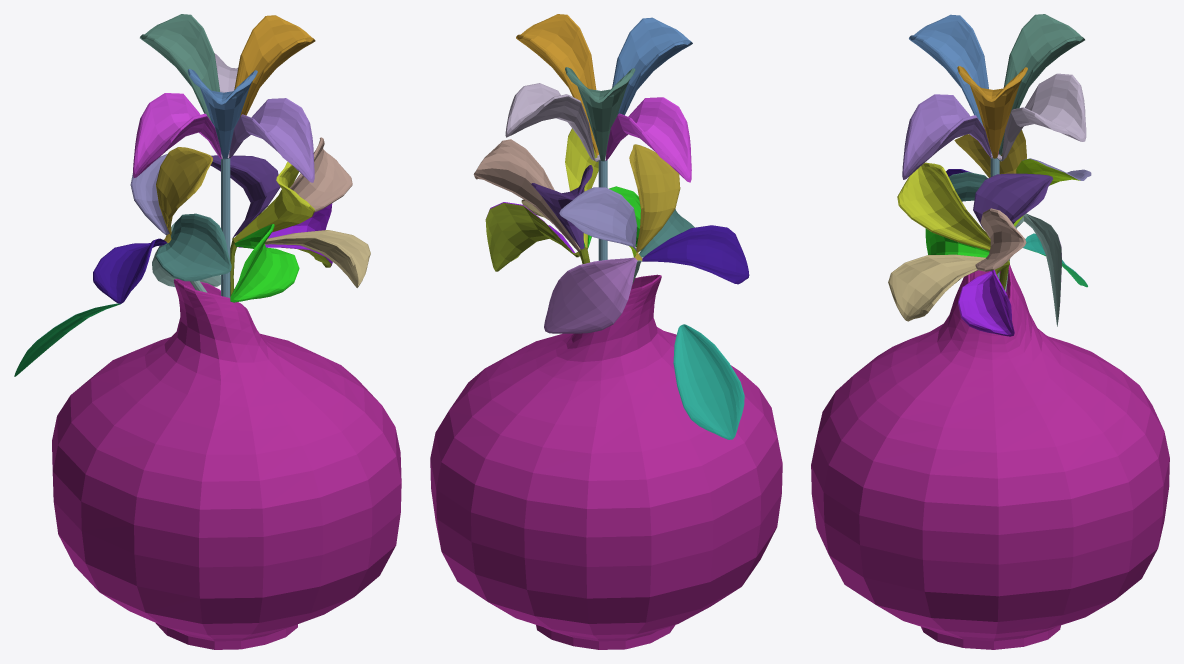
3 renders of one model, left to right at view 1: azimuth 30°, elevation 25°; view 2: azimuth 150°, elevation 25°; view 3: azimuth 270°, elevation 25°, orthographic.
Visible parts, largest first — view 1: world; view 2: world; view 3: world.
Part boxes in pixels (<box>): world: <box>14,14,401,649</box>; world: <box>430,14,782,649</box>; world: <box>811,14,1169,649</box>.
Bounding box in the file's own units: 1.16 × 2 × 1.12.
